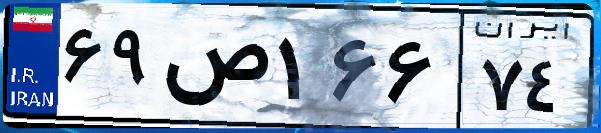1: (270, 28, 330, 110)
4: (525, 38, 570, 115)
6: (385, 28, 445, 110), (330, 28, 385, 110), (57, 26, 110, 100)
7: (475, 38, 525, 113)
9: (110, 28, 158, 98)
ص: (158, 20, 270, 120)
